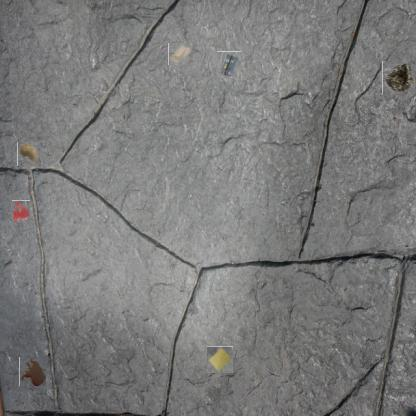dirty: (382, 62, 416, 95), (207, 346, 233, 373), (217, 51, 241, 78), (17, 143, 41, 166), (168, 43, 193, 65)
liquid: (19, 356, 46, 386), (12, 200, 30, 223)
